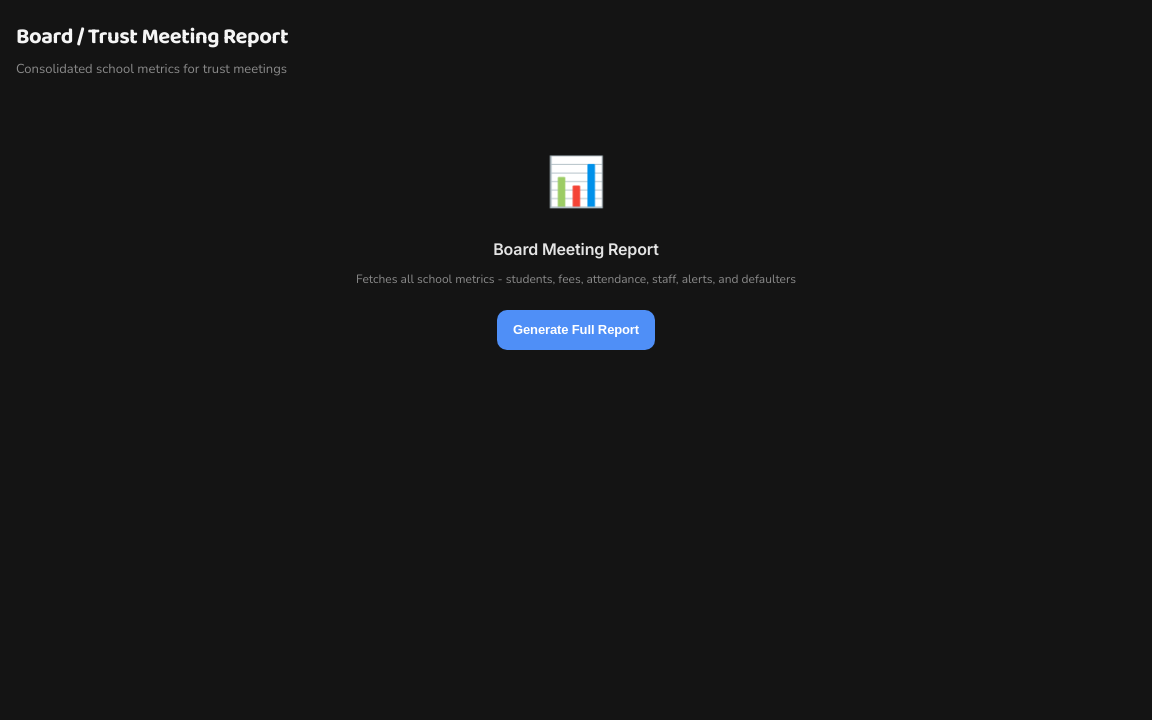
a refused tool is shown as a refusal, never as an empty result
Click the button with test id "board-generate" at (576, 330), box 497,310 -> 655,350
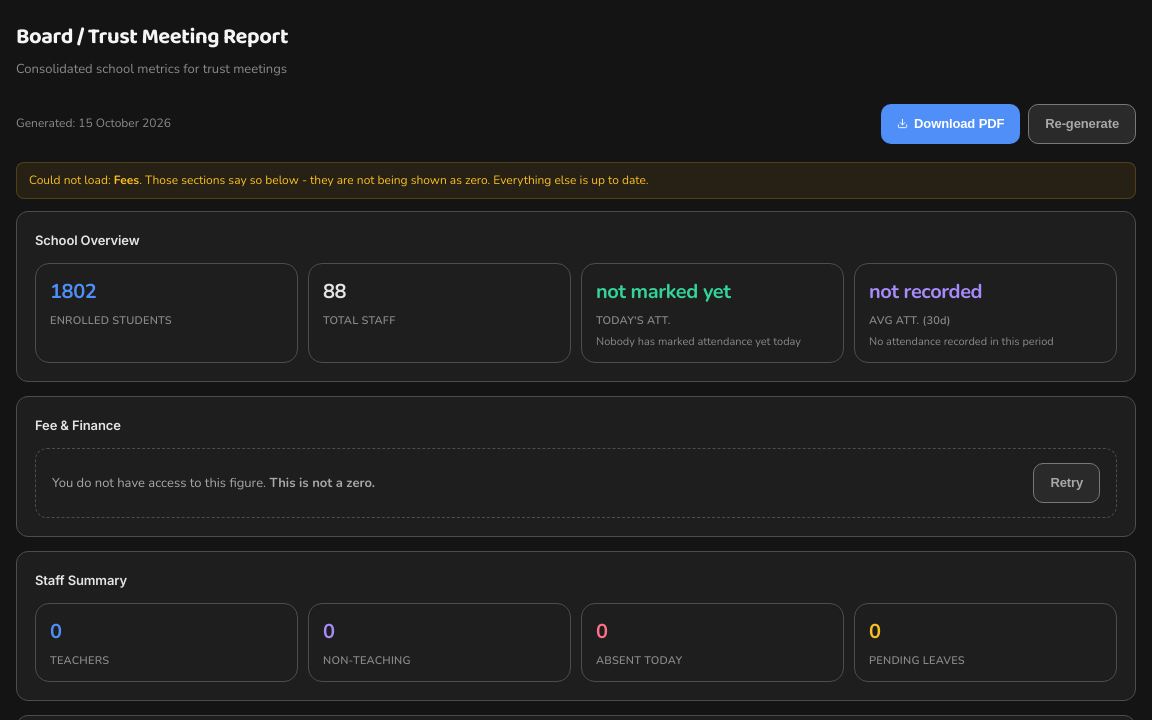
Now the message "You do not have access to this figure. This is not a zero. Retry" is shown, box 35,448 -> 1117,518
Now the message with test id "board-section-error-fee" shows "do not have access", box 52,474 -> 266,492
